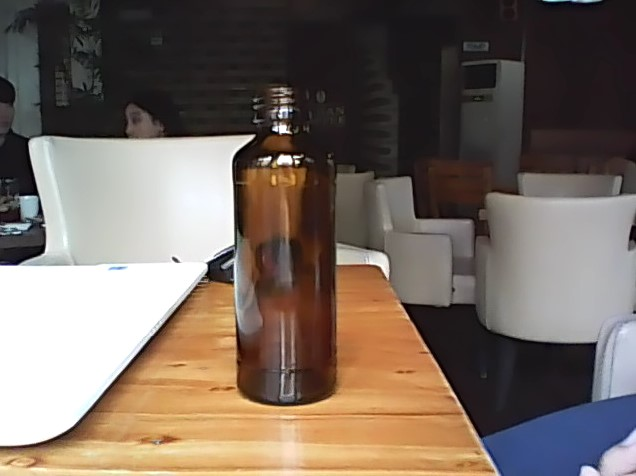Glass: (229, 82, 343, 409)
